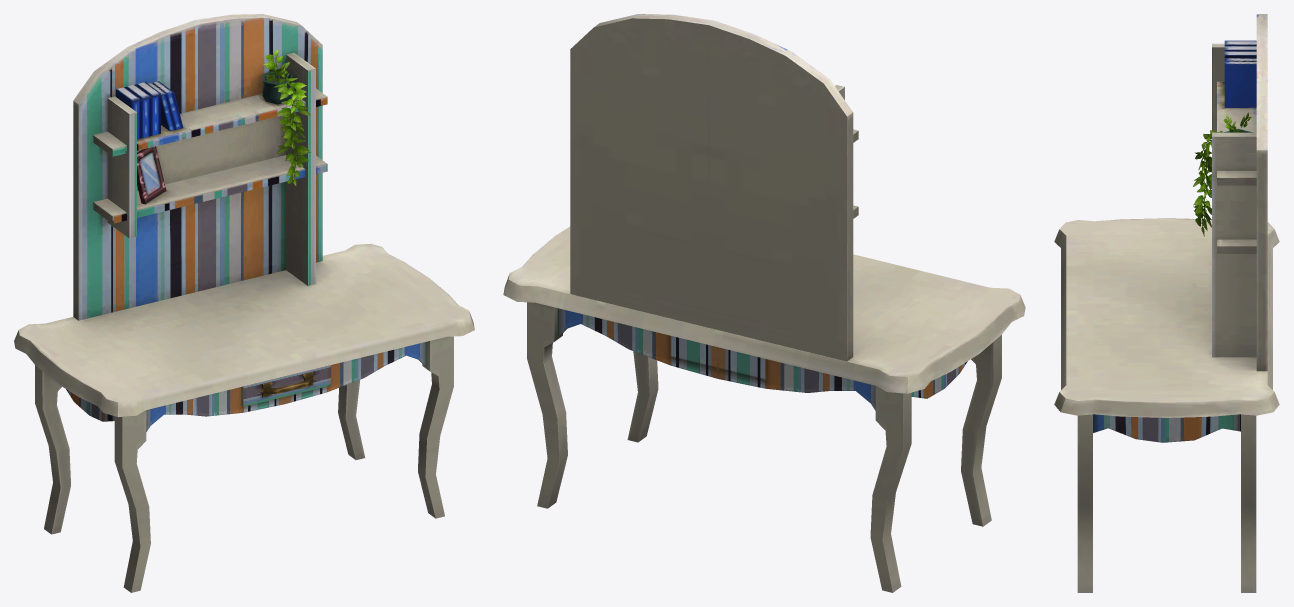
The model's file is furni_0200609_03.FBX.
3 renders of one model, left to right at view 1: azimuth 30°, elevation 25°; view 2: azimuth 150°, elevation 25°; view 3: azimuth 270°, elevation 25°, orthographic. The views are drawn at different scales.
Parts seen in each view (by area): view 1: furni_0200609_03; view 2: furni_0200609_03; view 3: furni_0200609_03.
Part boxes in pixels (<box>): furni_0200609_03: <box>14,14,474,592</box>; furni_0200609_03: <box>503,14,1025,592</box>; furni_0200609_03: <box>1054,14,1279,592</box>.
Size of the model in its own units: 159 by 187 by 80.07.
1 material, 1 textured.
